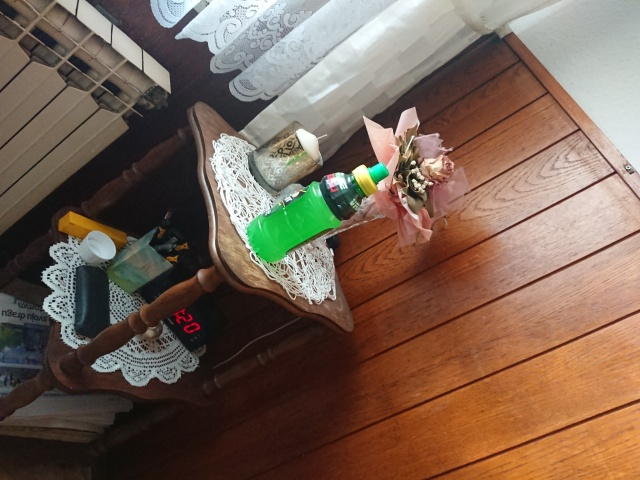Vindi Iso Sport Lemon-Grapefruit 500mL: (244, 160, 391, 265)
